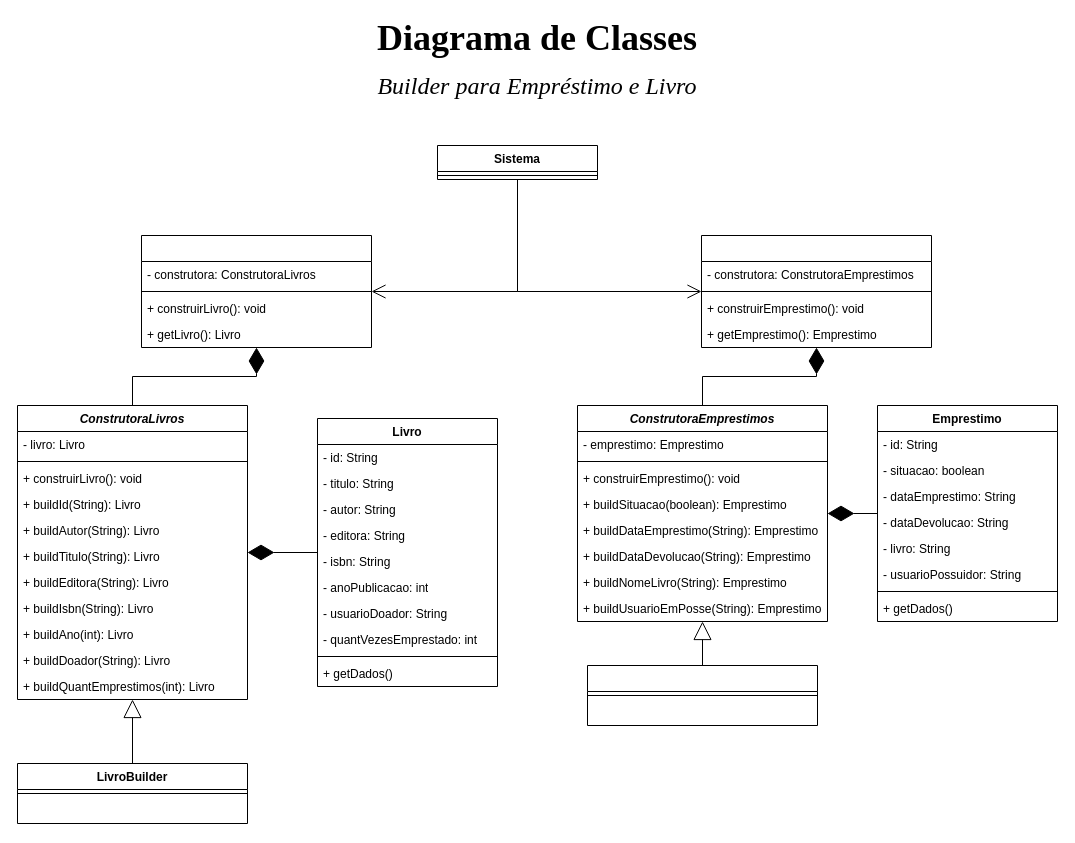
The diagram is 1075 pixels wide and 843 high, and some of its shapes have lost their labels. The box of each missing label's shape, as (x1, y1, x2, y2) in pixels:
EmprestimoBuilder: (586, 664, 818, 726)
FornecedorEmprestimos: (700, 234, 932, 348)
FornecedorLivros: (140, 234, 372, 348)
